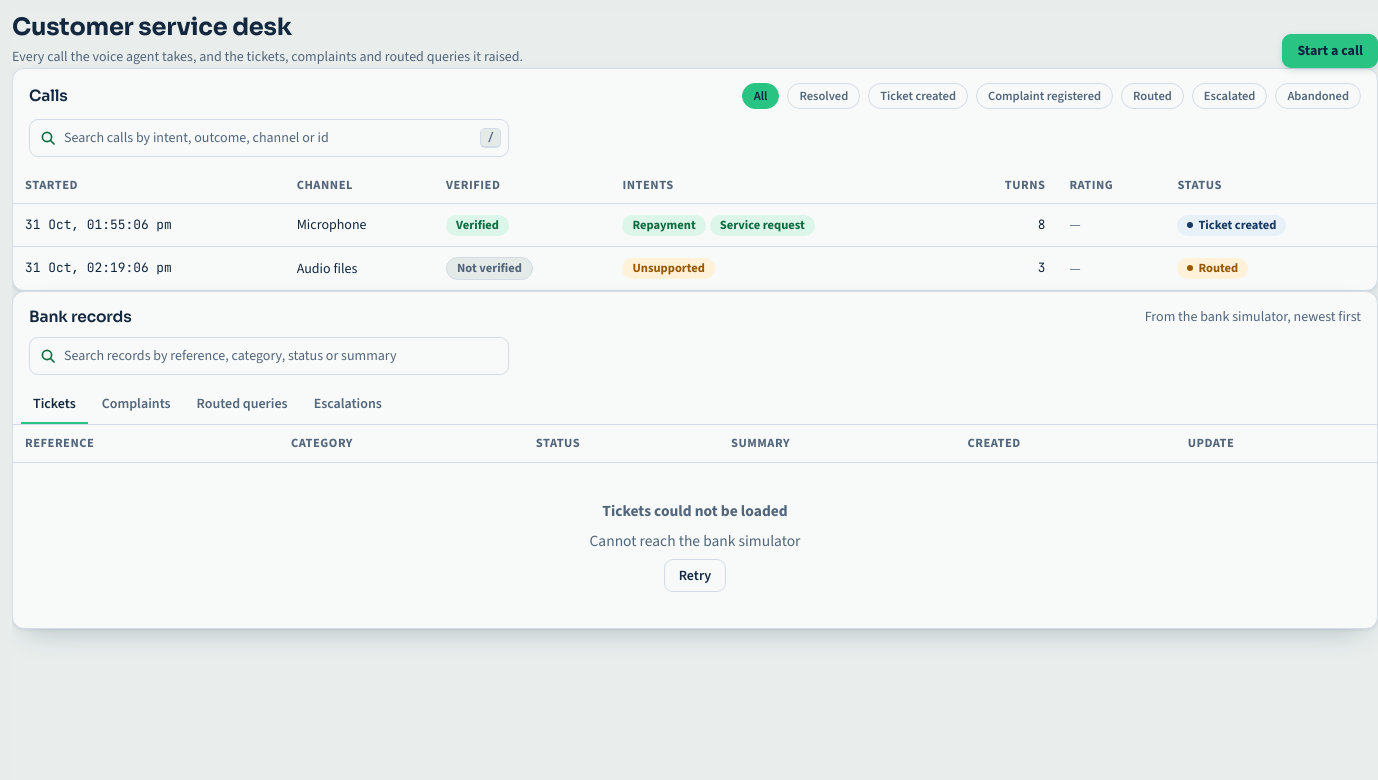
Scenario: SupportDesk › shows an error with Retry when the simulator is down
Expected: the text "Tickets could not be loaded" is shown, x1=602 y1=499 x2=788 y2=523
What coordinates should you click on to do the following:
click the button "Retry"
I would click on:
 (695, 575)
Its box is x1=664 y1=559 x2=726 y2=592.
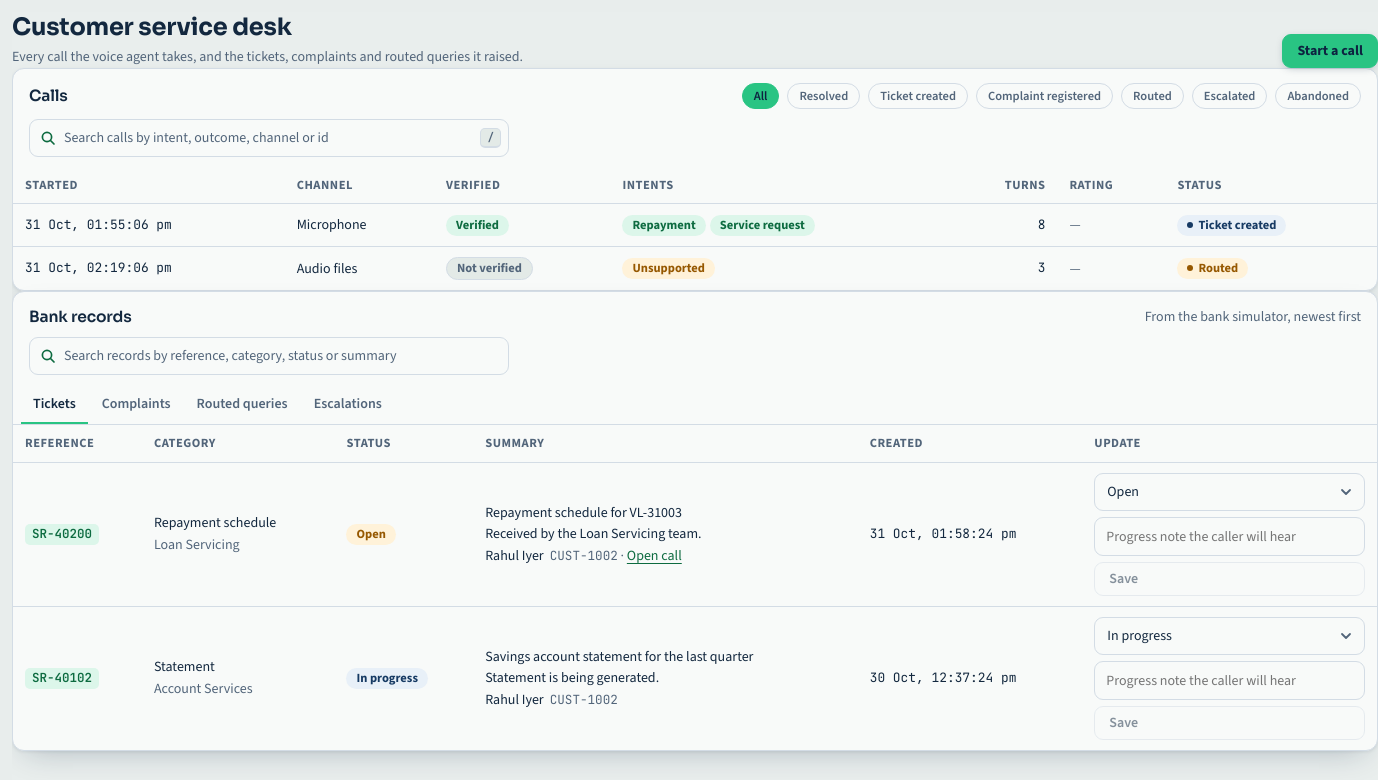
Expected: the text "SR-40200" is shown, x1=25 y1=524 x2=99 y2=545
